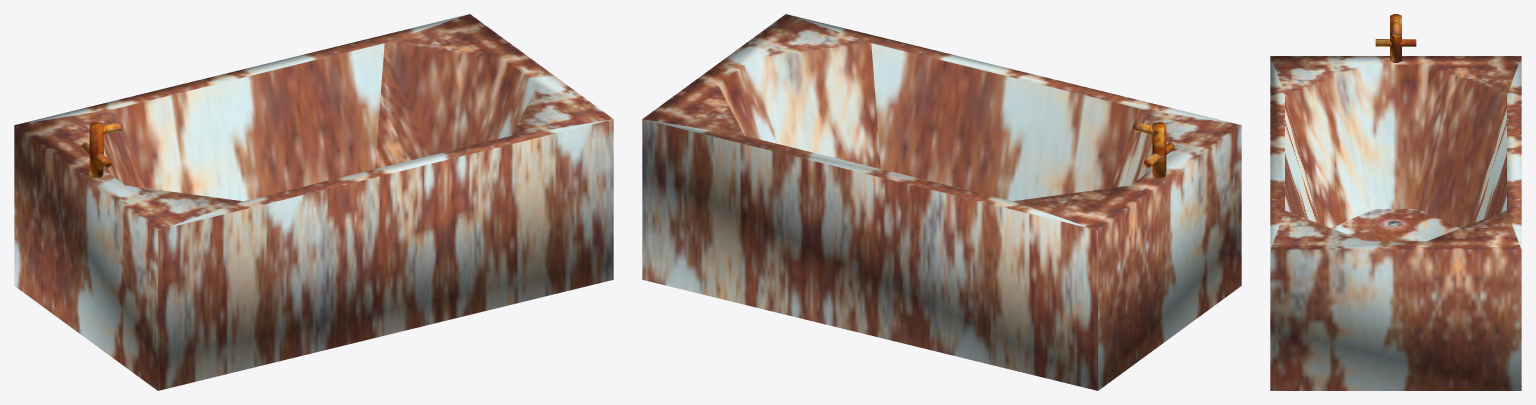
File: bathtub.glb
The picture shows the model from 3 angles, left to right: view 1: azimuth 30°, elevation 25°; view 2: azimuth 150°, elevation 25°; view 3: azimuth 270°, elevation 25°; orthographic projection. The views are drawn at different scales.
Visible parts, largest first — view 1: Cube; view 2: Cube; view 3: Cube.
Boxes of the visible parts, x1,y1,x2,y2 form: Cube: (14, 14, 613, 390); Cube: (642, 14, 1241, 390); Cube: (1270, 14, 1521, 390).
Size of the model in its own units: 4.01 by 1.77 by 2.19.
1 material, 1 textured.
